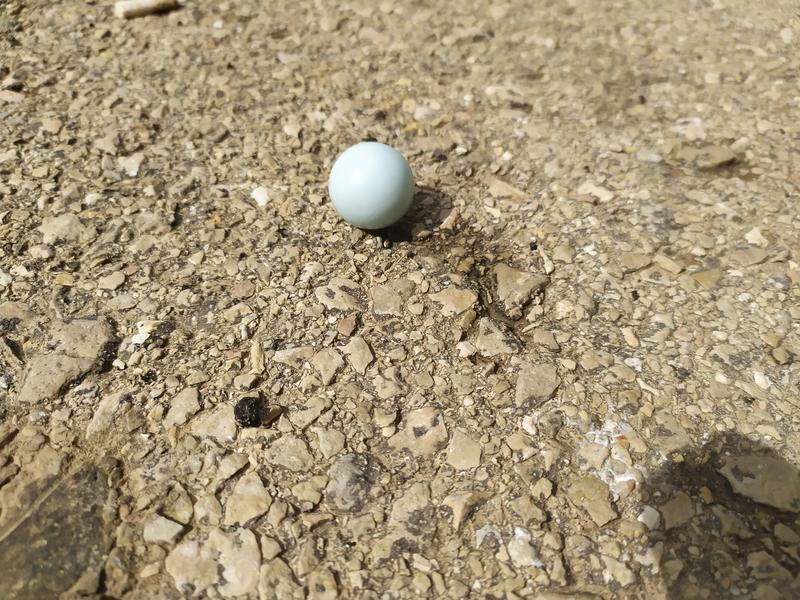Warning: (326, 140, 417, 232)
